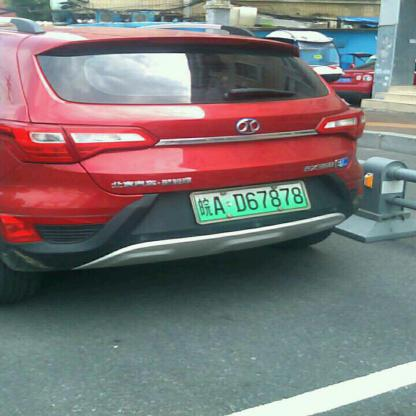lp: (193, 181, 306, 221)
